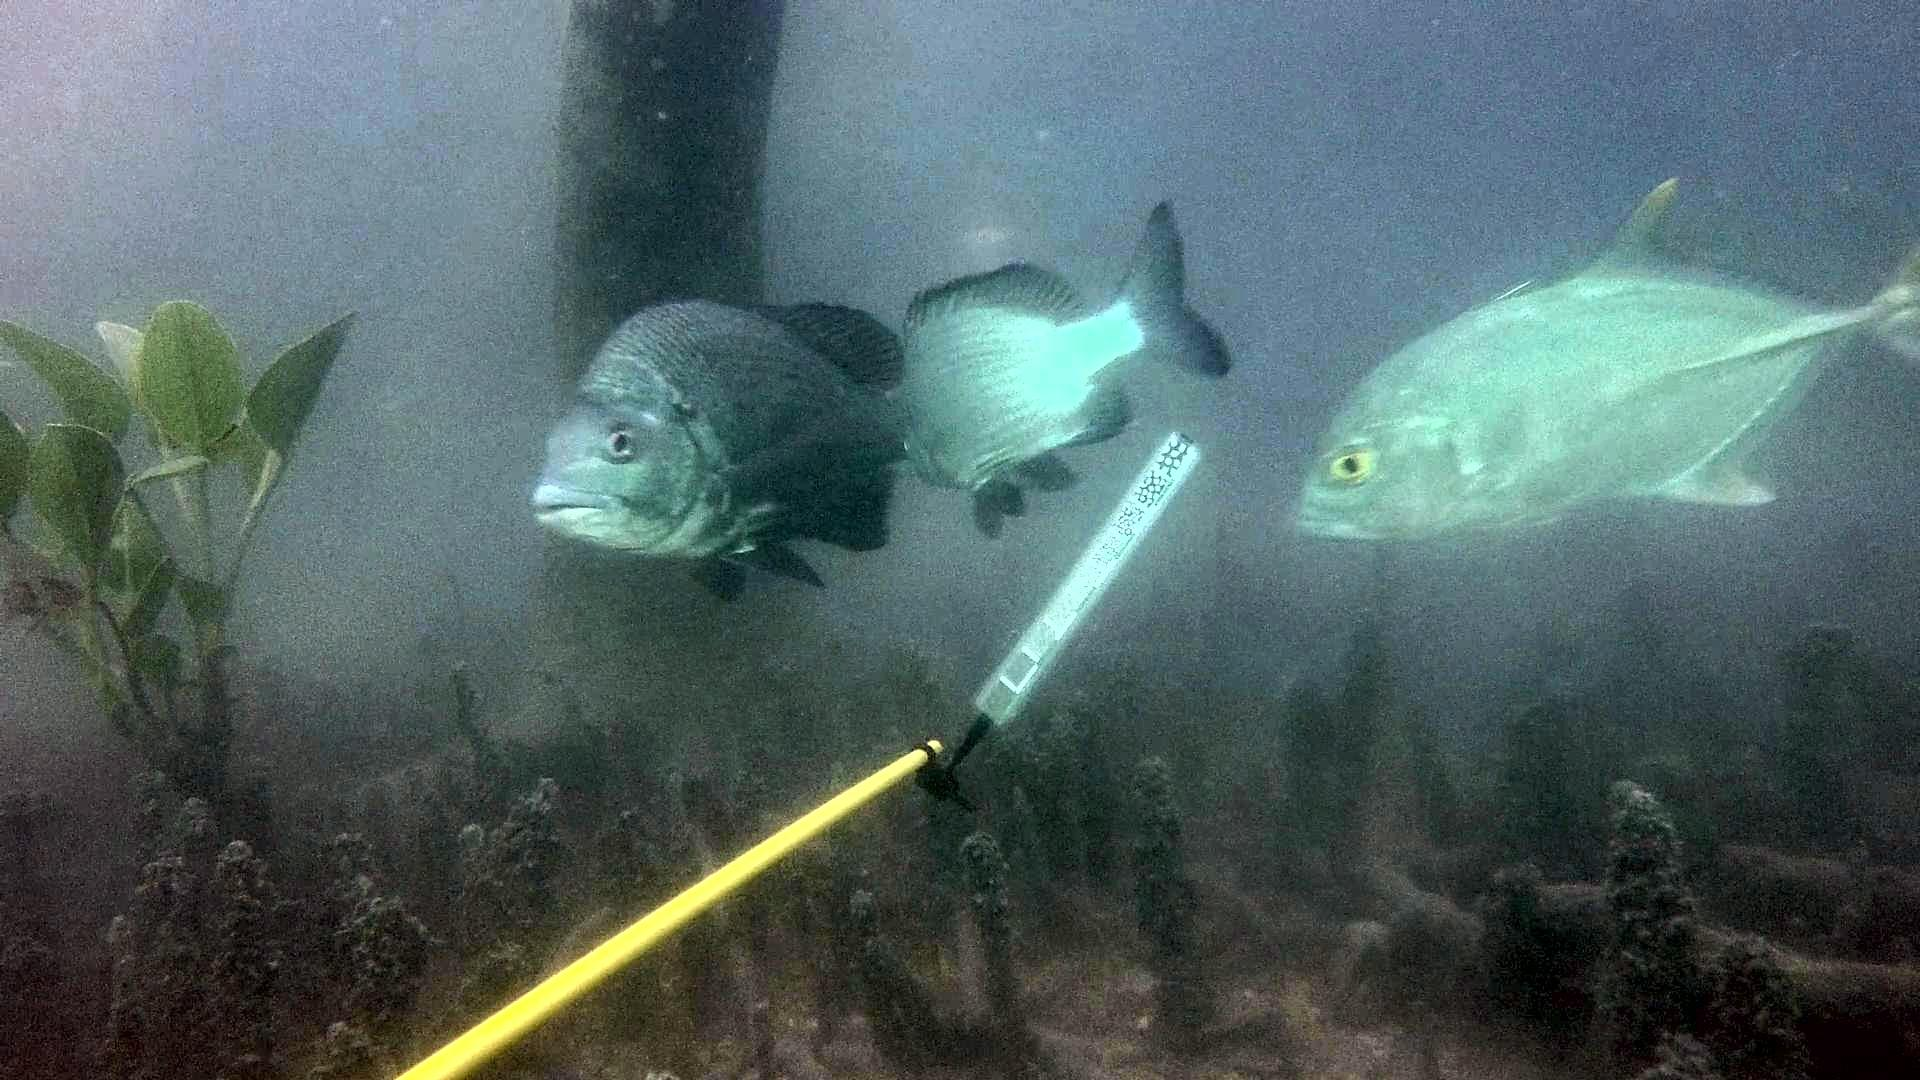acanthopagrus palmaris: (513, 284, 924, 615), (873, 191, 1245, 547)
caranx: (1286, 158, 1920, 566)
